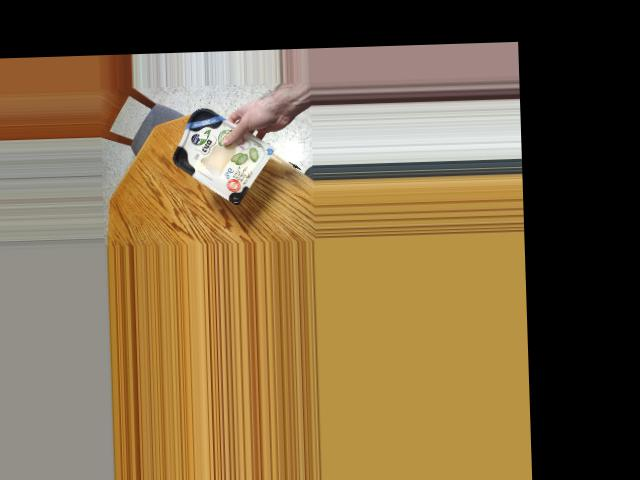cheese: (175, 100, 259, 200)
